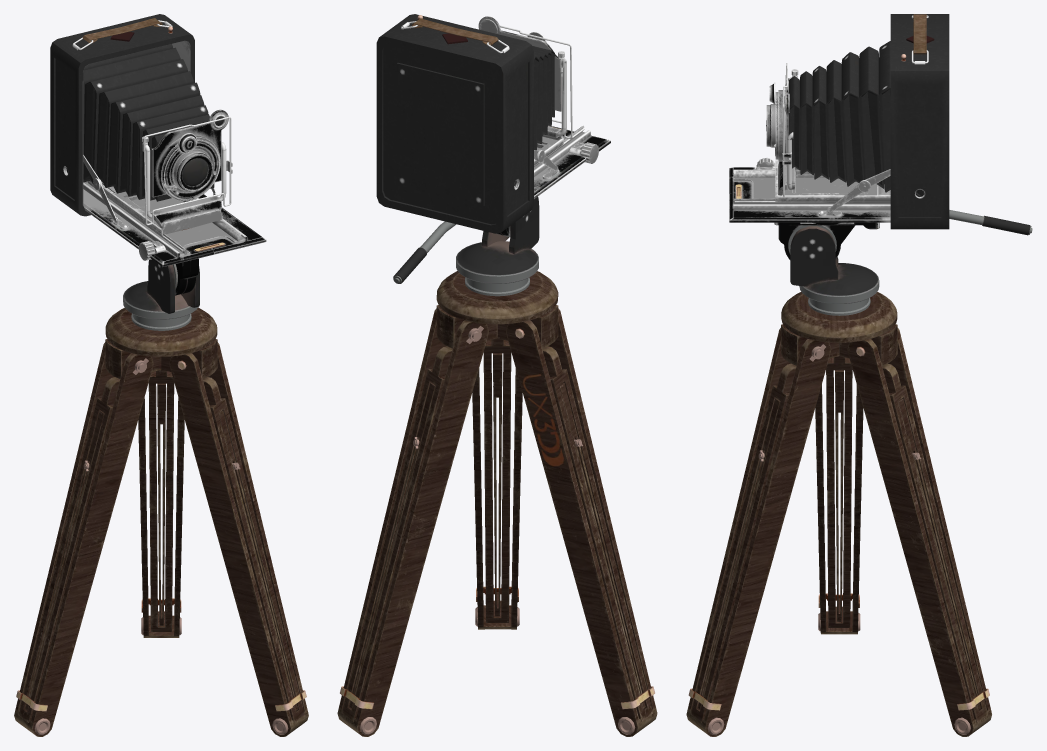
Rendered from antique-camera.glb.
3 renders of one model, left to right at view 1: azimuth 30°, elevation 25°; view 2: azimuth 150°, elevation 25°; view 3: azimuth 270°, elevation 25°, orthographic. The views are drawn at different scales.
Visible parts, largest first — view 1: tripod, camera; view 2: tripod, camera; view 3: tripod, camera.
Boxes of the visible parts, left/top/right/bottom form: tripod: left=14, top=258, right=308, bottom=736; camera: left=50, top=14, right=266, bottom=266; tripod: left=337, top=196, right=657, bottom=736; camera: left=376, top=14, right=610, bottom=233; tripod: left=686, top=210, right=1032, bottom=736; camera: left=729, top=14, right=949, bottom=229.
Bounding box in the file's own units: 2.6 × 7.21 × 3.39.
Materials: 2 (2 with a texture image).
